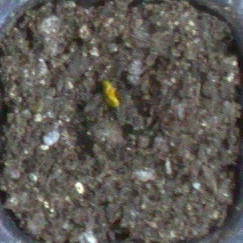pepper seed: (41, 25, 161, 133)
